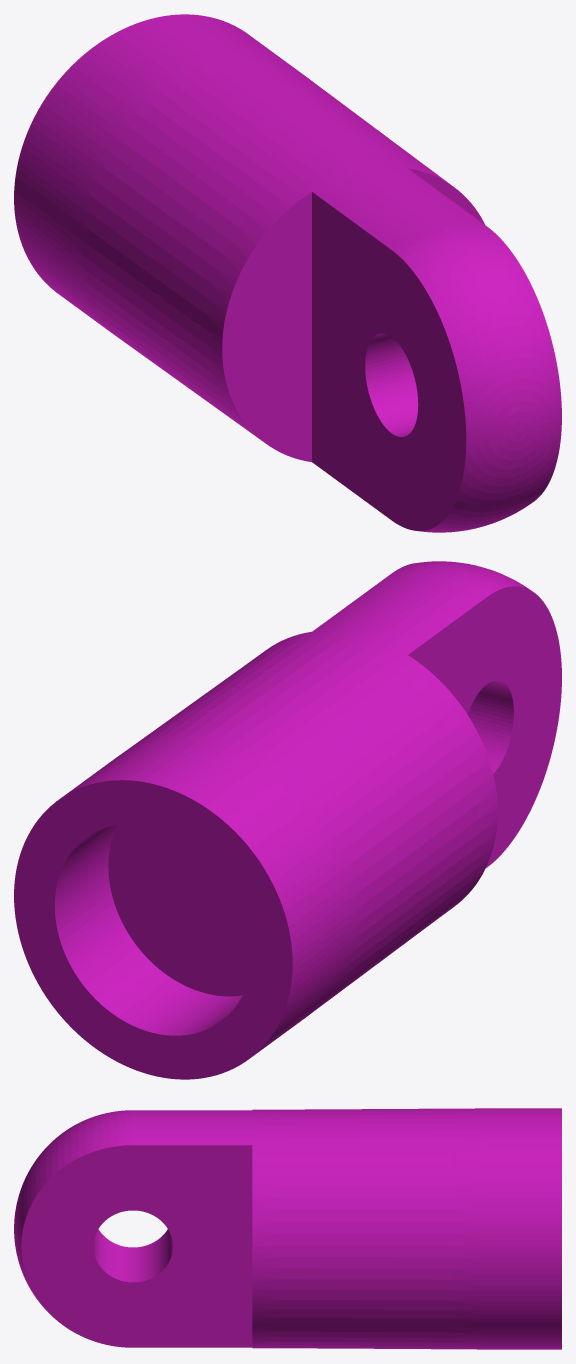
3 renders of one model, top to bottom at view 1: azimuth 30°, elevation 25°; view 2: azimuth 150°, elevation 25°; view 3: azimuth 270°, elevation 25°, orthographic. The views are drawn at different scales.
Visible parts, largest first — view 1: node; view 2: node; view 3: node.
Part boxes in pixels (x1,y1,x2,y2): node: [14, 14, 561, 532]; node: [14, 561, 561, 1079]; node: [14, 1108, 561, 1349].
Bounding box in the file's own units: 0.0789 × 0.0789 × 0.1793.
